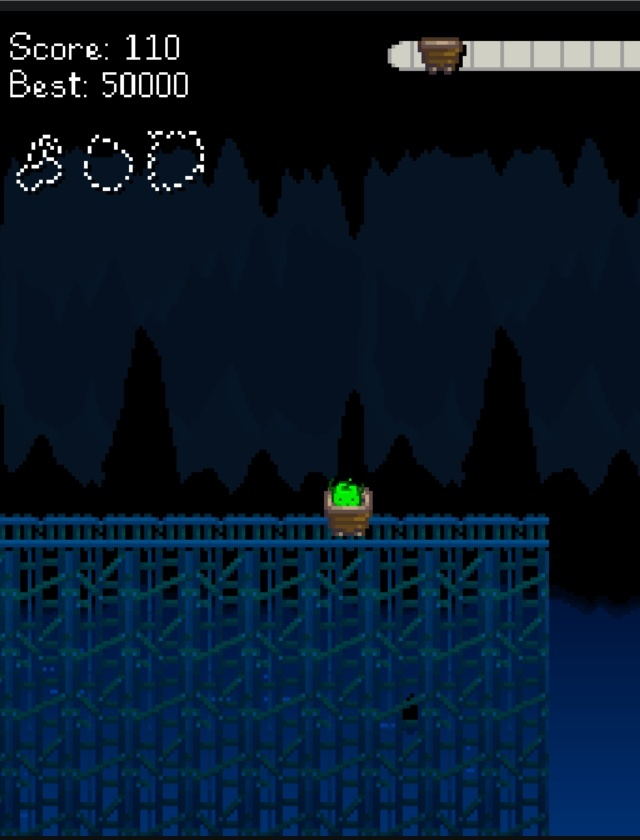minecart: (324, 479, 371, 535)
score: (119, 28, 185, 68)
tracks: (1, 505, 319, 554)
